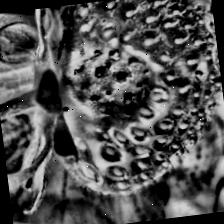Anthracnose Fruit Rot: (54, 31, 170, 130)
